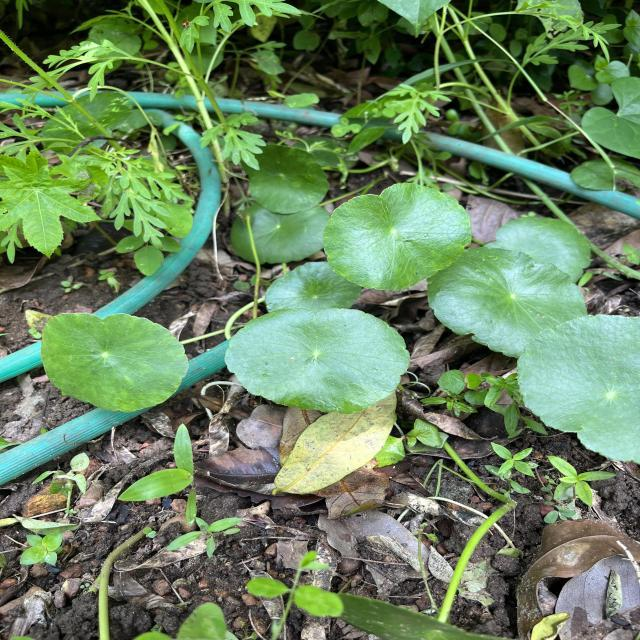Bacopa monnieri: (222, 306, 414, 416), (515, 313, 640, 466), (426, 246, 590, 360), (321, 180, 474, 292), (39, 311, 191, 415), (483, 214, 592, 286), (262, 259, 364, 315)
